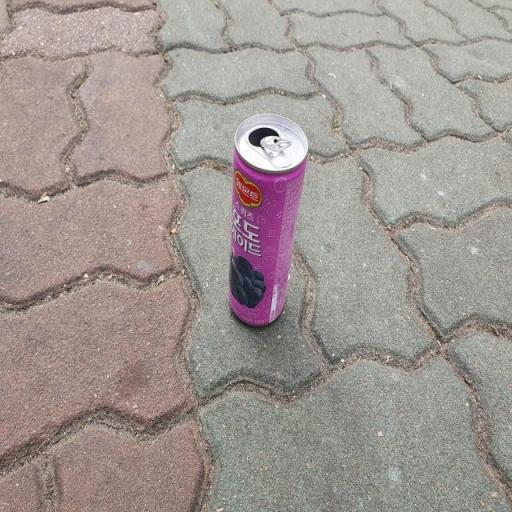metal: (226, 102, 312, 370)
